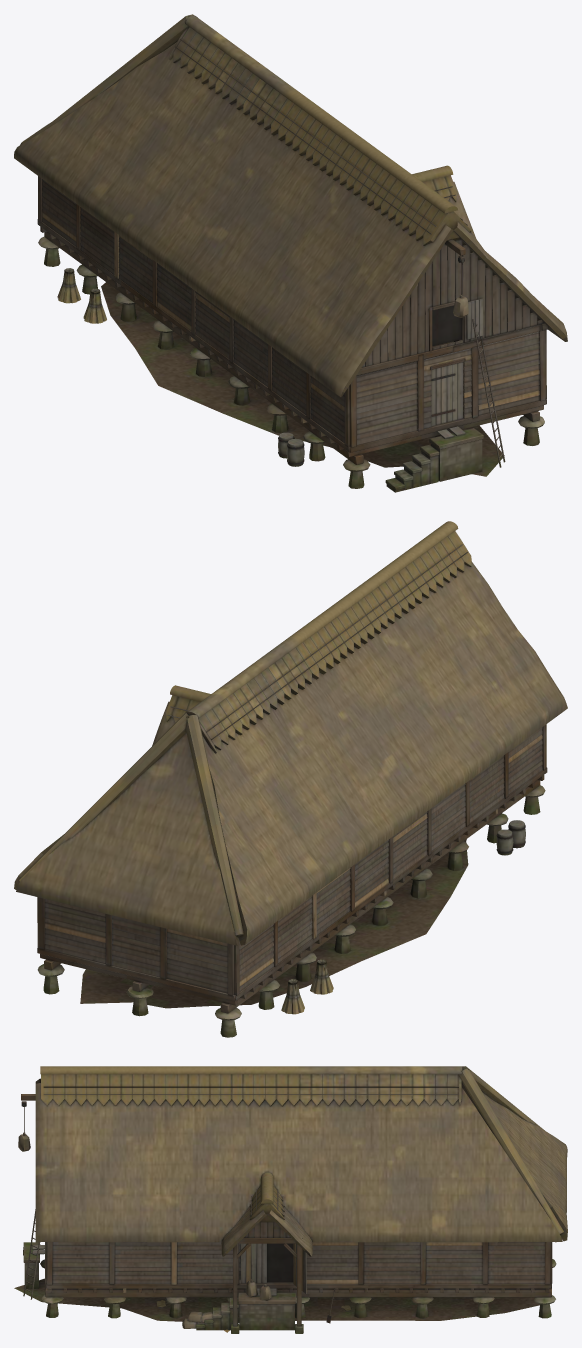
The model's file is granary.glb.
3 views of the same model, one above another, from view 1: azimuth 30°, elevation 25°; view 2: azimuth 150°, elevation 25°; view 3: azimuth 270°, elevation 25° (orthographic). The views are drawn at different scales.
Visible parts, largest first — view 1: granary_LOD0; view 2: granary_LOD0; view 3: granary_LOD0.
Part boxes in pixels (x1,y1,x2,y2): granary_LOD0: [14, 14, 567, 492]; granary_LOD0: [14, 521, 567, 1037]; granary_LOD0: [14, 1066, 567, 1333].
Size of what is drawn, in the model's own units: 10.47 by 9.55 by 22.45.
1 material, 1 textured.
